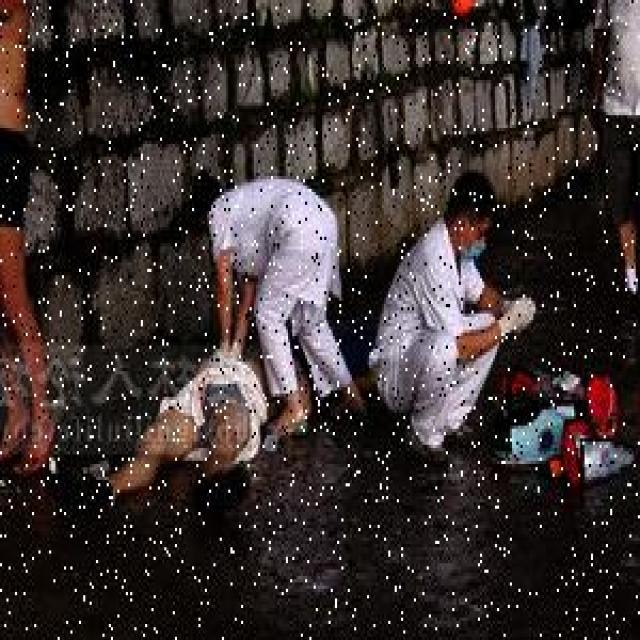fall: (66, 339, 305, 515)
